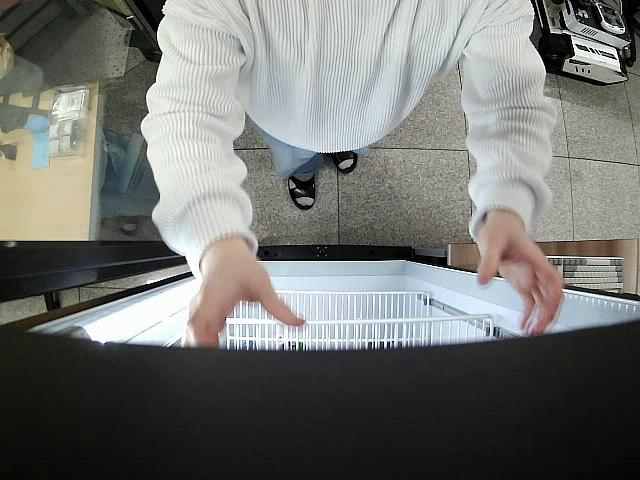00_hand: (182, 251, 306, 351), (475, 212, 566, 337)
